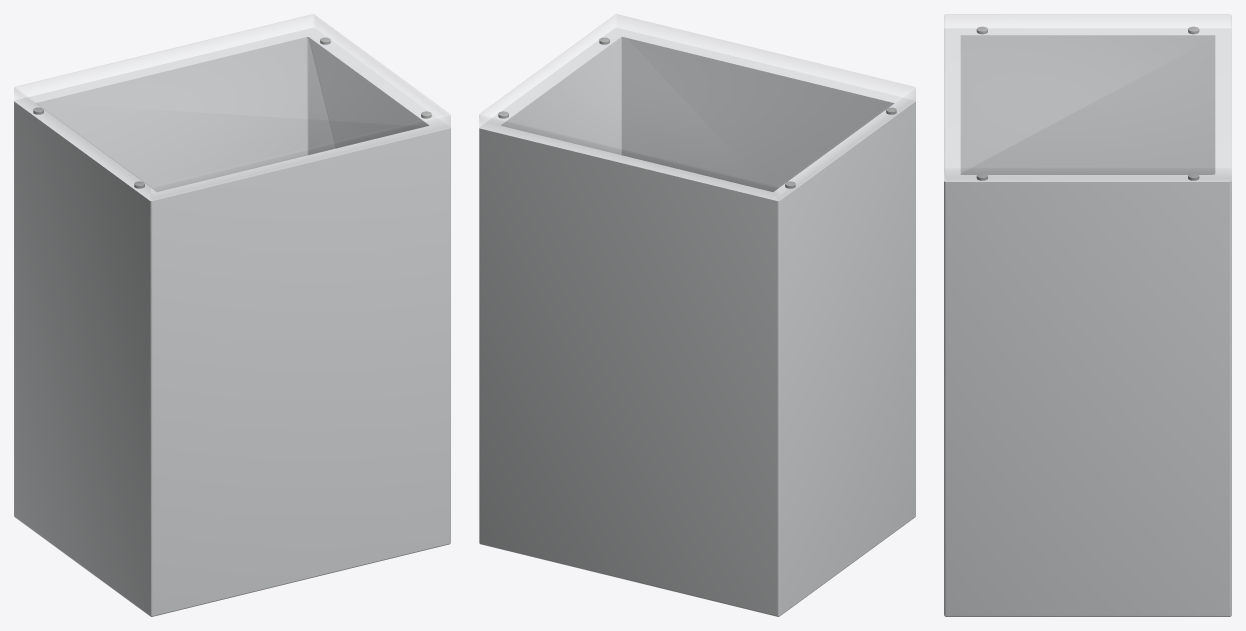
File: acrylic-case-style-1.glb
3 views of the same model, side by side, from view 1: azimuth 30°, elevation 25°; view 2: azimuth 150°, elevation 25°; view 3: azimuth 270°, elevation 25° (orthographic). The views are drawn at different scales.
Visible parts, largest first — view 1: Cube, Cube.002; view 2: Cube, Cube.002; view 3: Cube, Cube.002.
Part boxes in pixels (box(x1,y1,x2,y2)): Cube: box(14, 27, 450, 616); Cube.002: box(14, 14, 450, 200); Cube: box(479, 27, 915, 616); Cube.002: box(479, 14, 915, 200); Cube: box(944, 28, 1231, 616); Cube.002: box(944, 14, 1231, 181).
Bounding box in the file's own units: 0.13 × 0.178 × 0.103.
4 materials, 3 textured.
